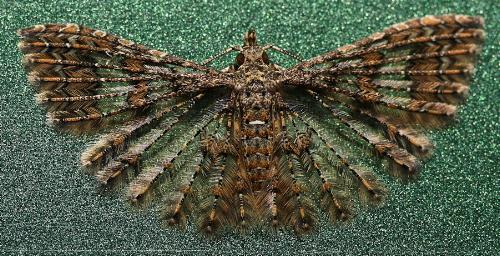Alucitidae: (11, 10, 491, 235)
moth: (13, 12, 493, 237)
